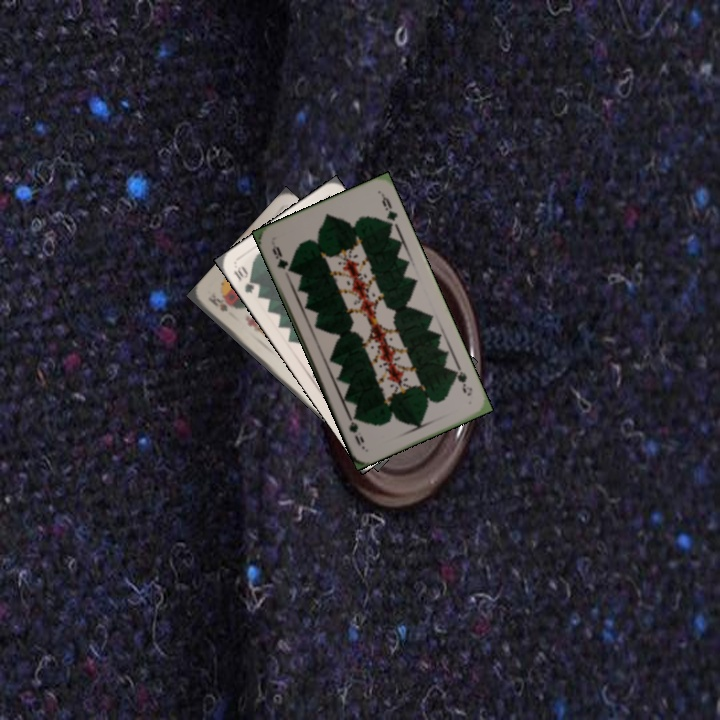G10: (230, 262, 259, 296)
G9: (449, 363, 475, 399), (268, 241, 295, 275)
SK: (204, 290, 231, 314)
